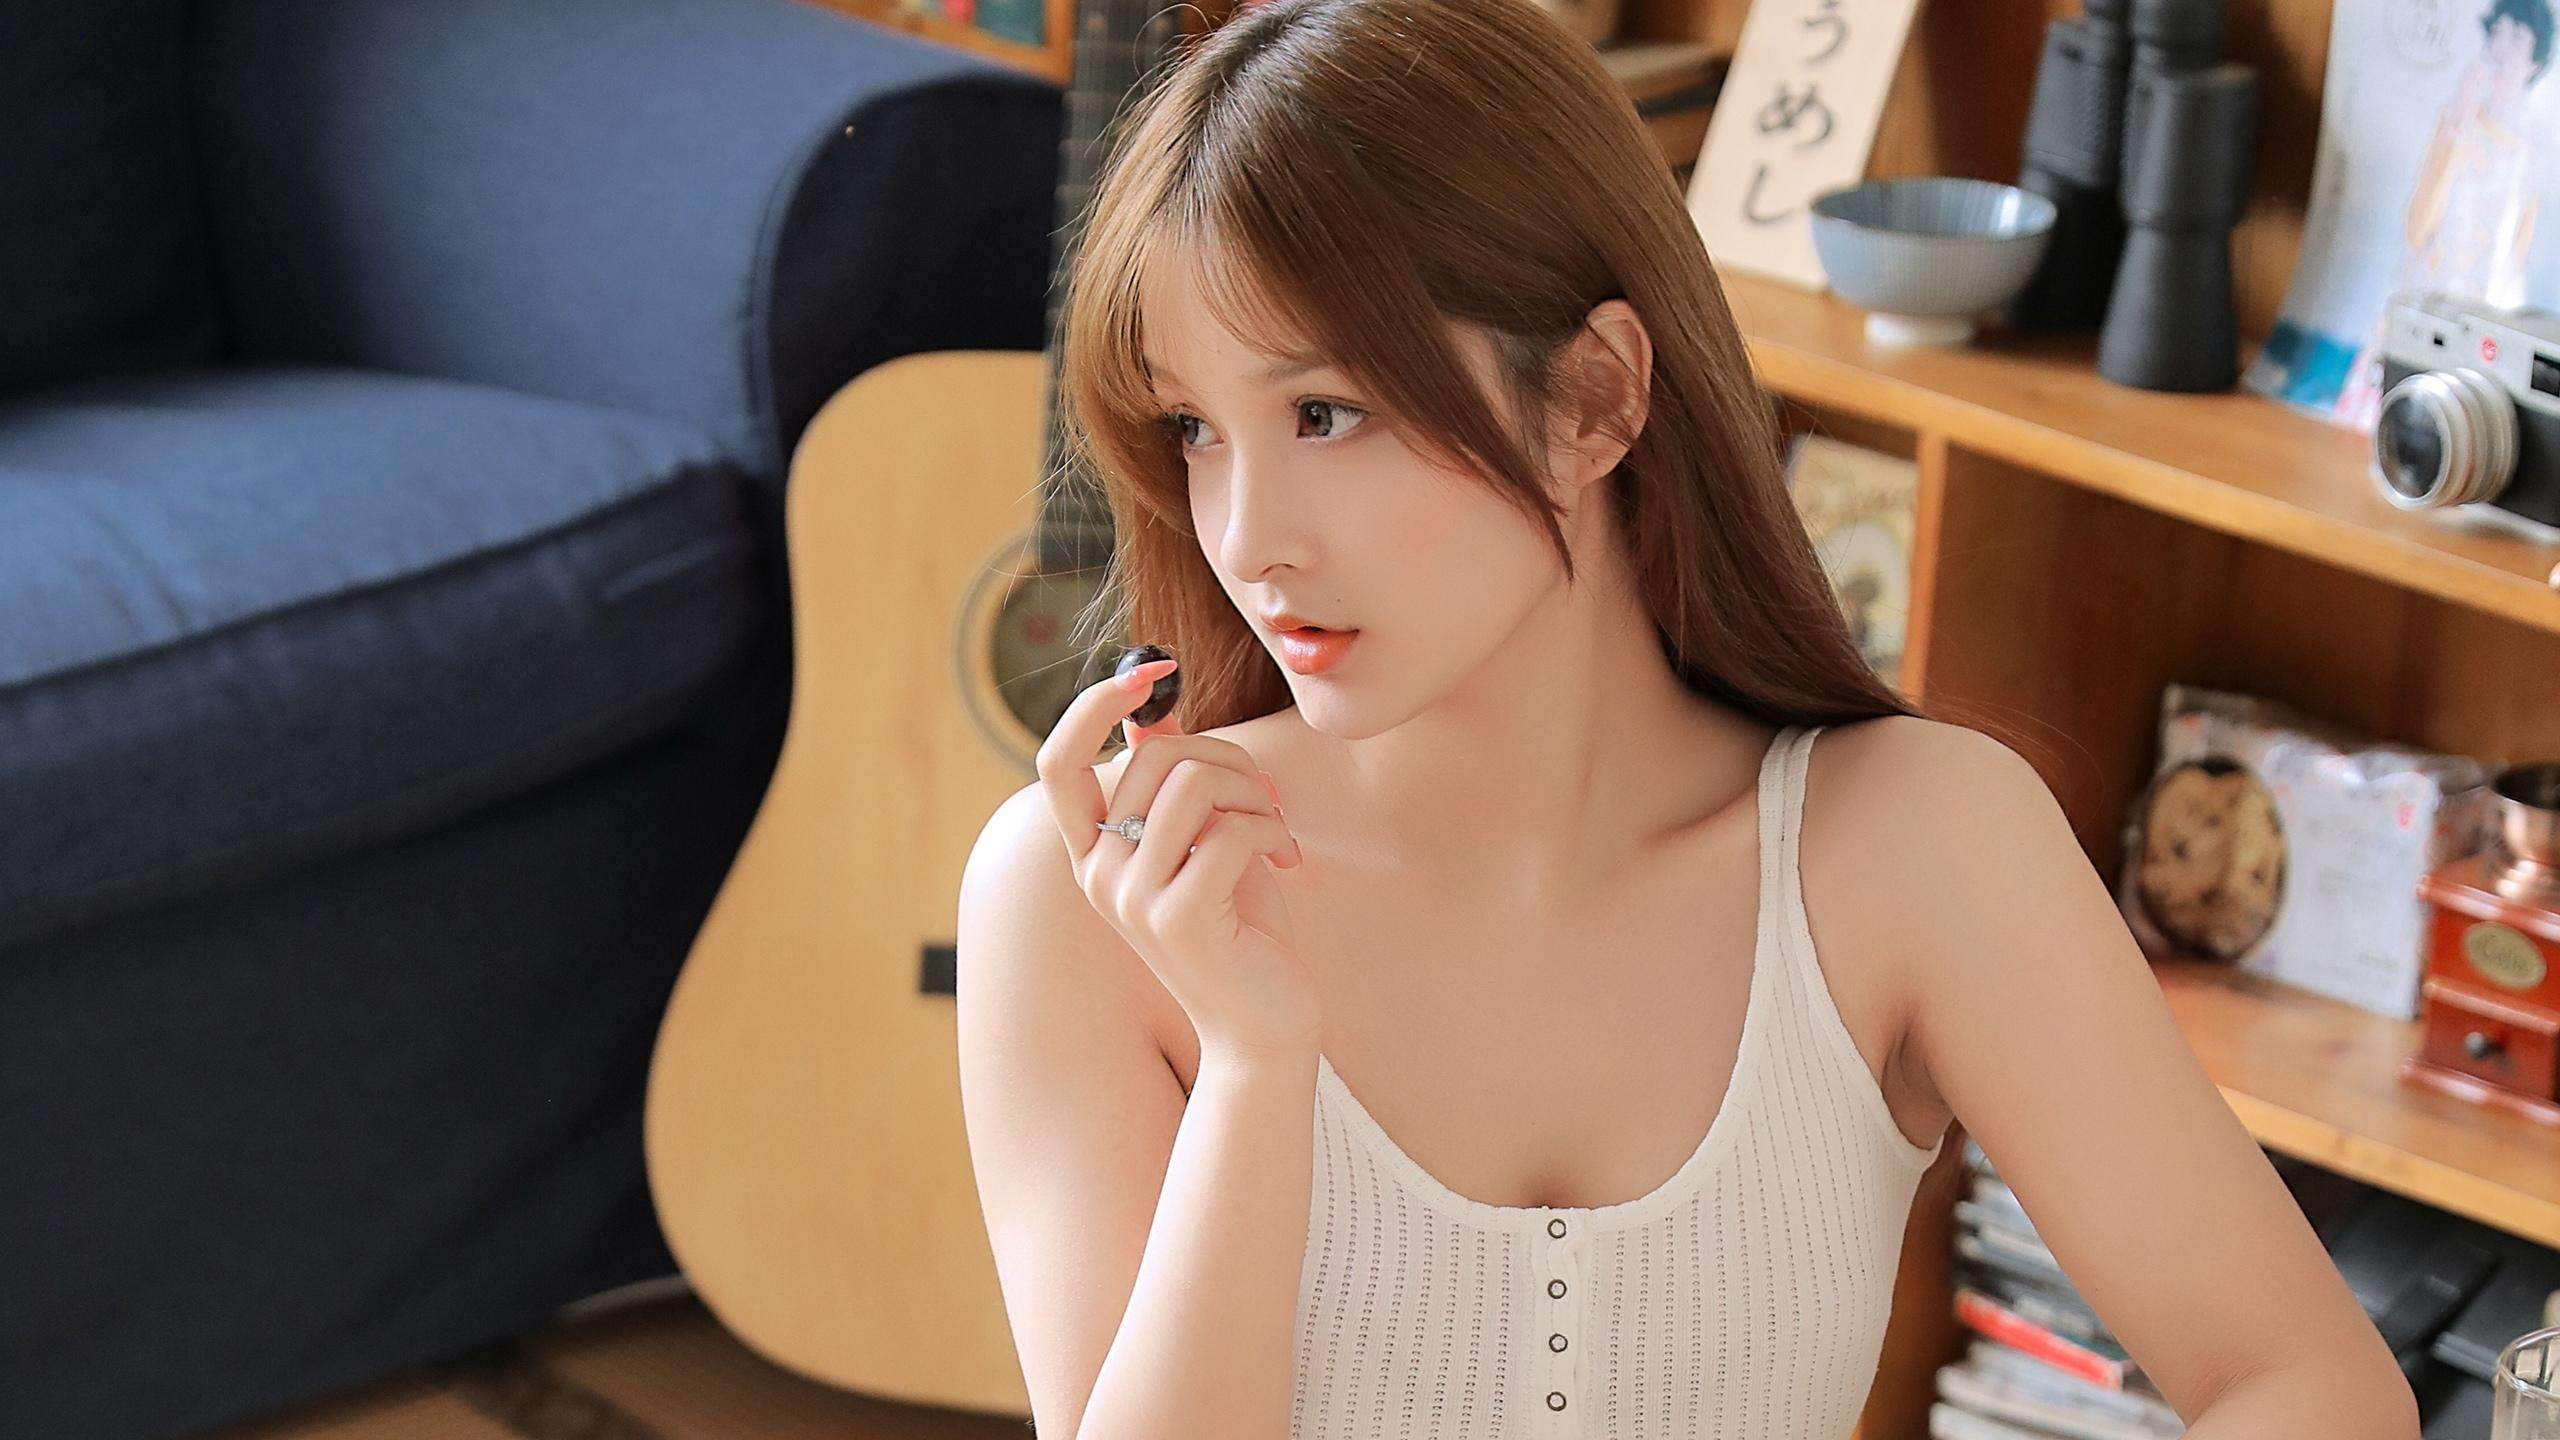person: (899, 122, 2203, 1431)
